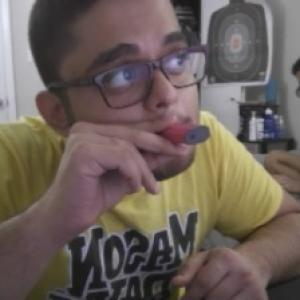Blume-E-Ciggirate: (162, 122, 215, 150)
